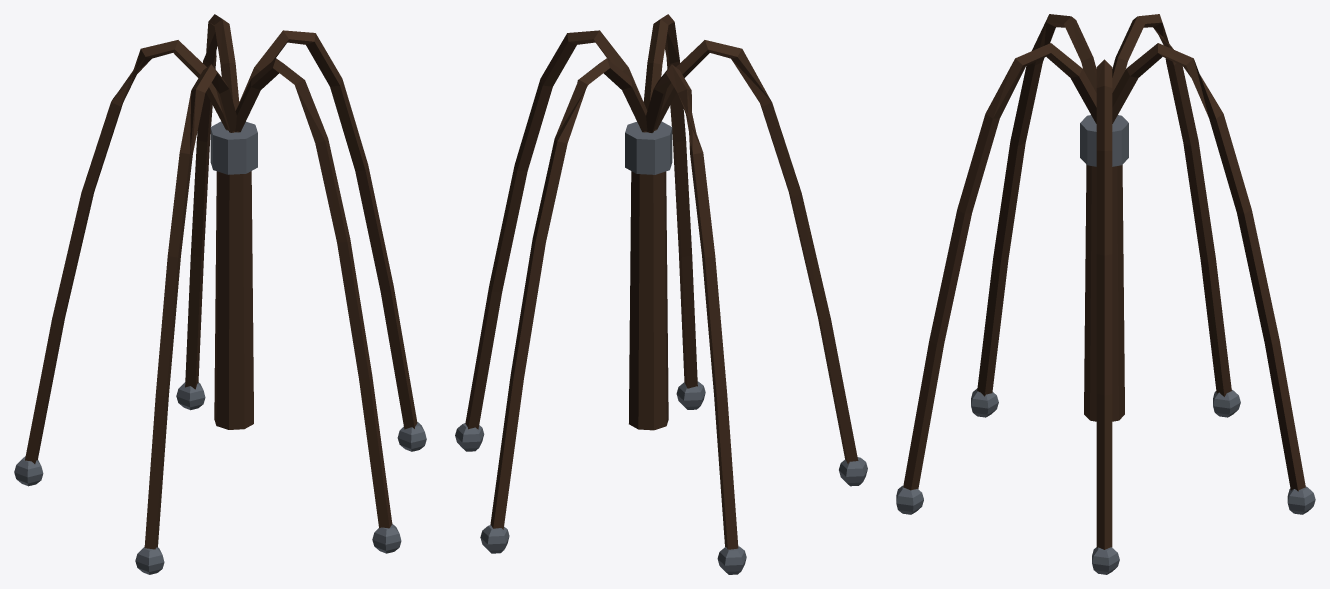
File: g-whip-scourge.glb
3 views of the same model, side by side, from view 1: azimuth 30°, elevation 25°; view 2: azimuth 150°, elevation 25°; view 3: azimuth 270°, elevation 25° (orthographic).
Visible parts, largest first — view 1: g-whip-scourge; view 2: g-whip-scourge; view 3: g-whip-scourge.
Part boxes in pixels (<box>): g-whip-scourge: <box>14,14,426,574</box>; g-whip-scourge: <box>455,14,867,574</box>; g-whip-scourge: <box>896,14,1315,574</box>.
Bounding box in the file's own units: 0.3123 × 0.3854 × 0.326.
